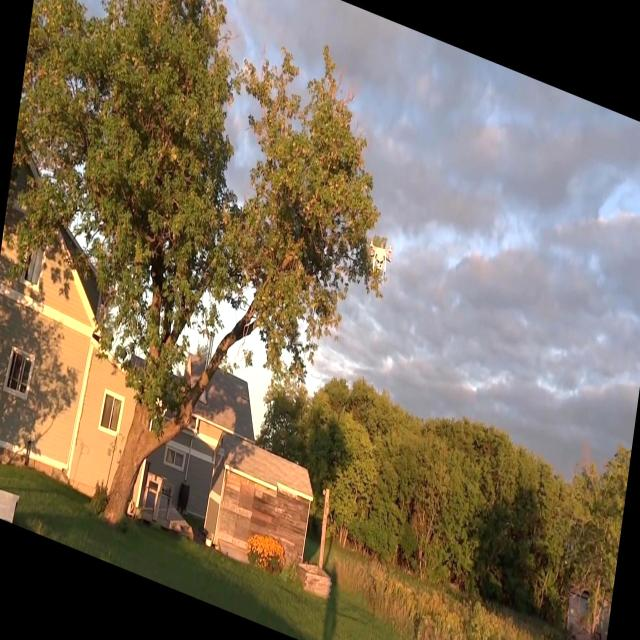drone: (369, 236, 394, 283)
